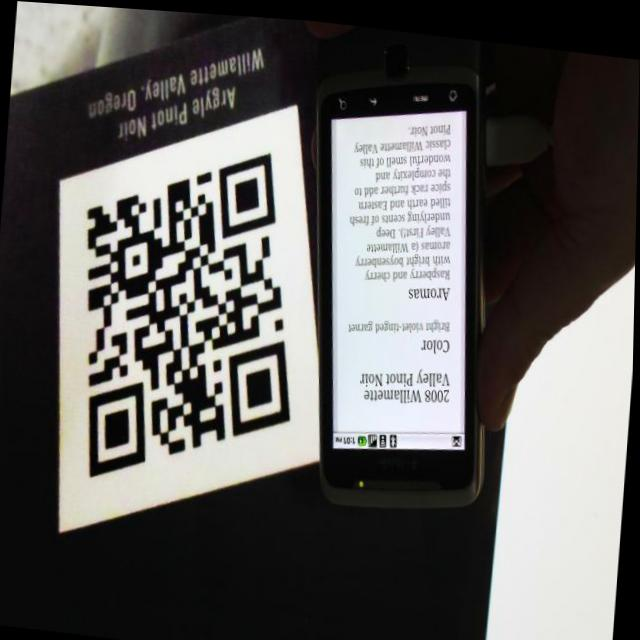qrcode: (69, 130, 310, 497)
